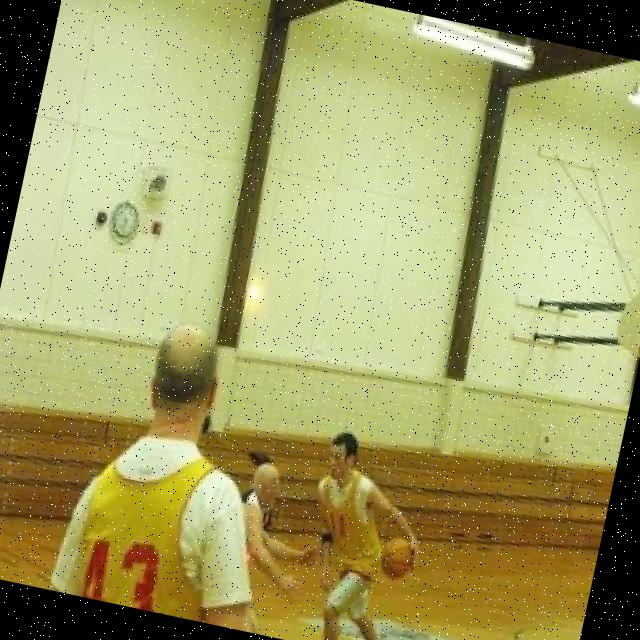ball: (368, 527, 423, 586)
